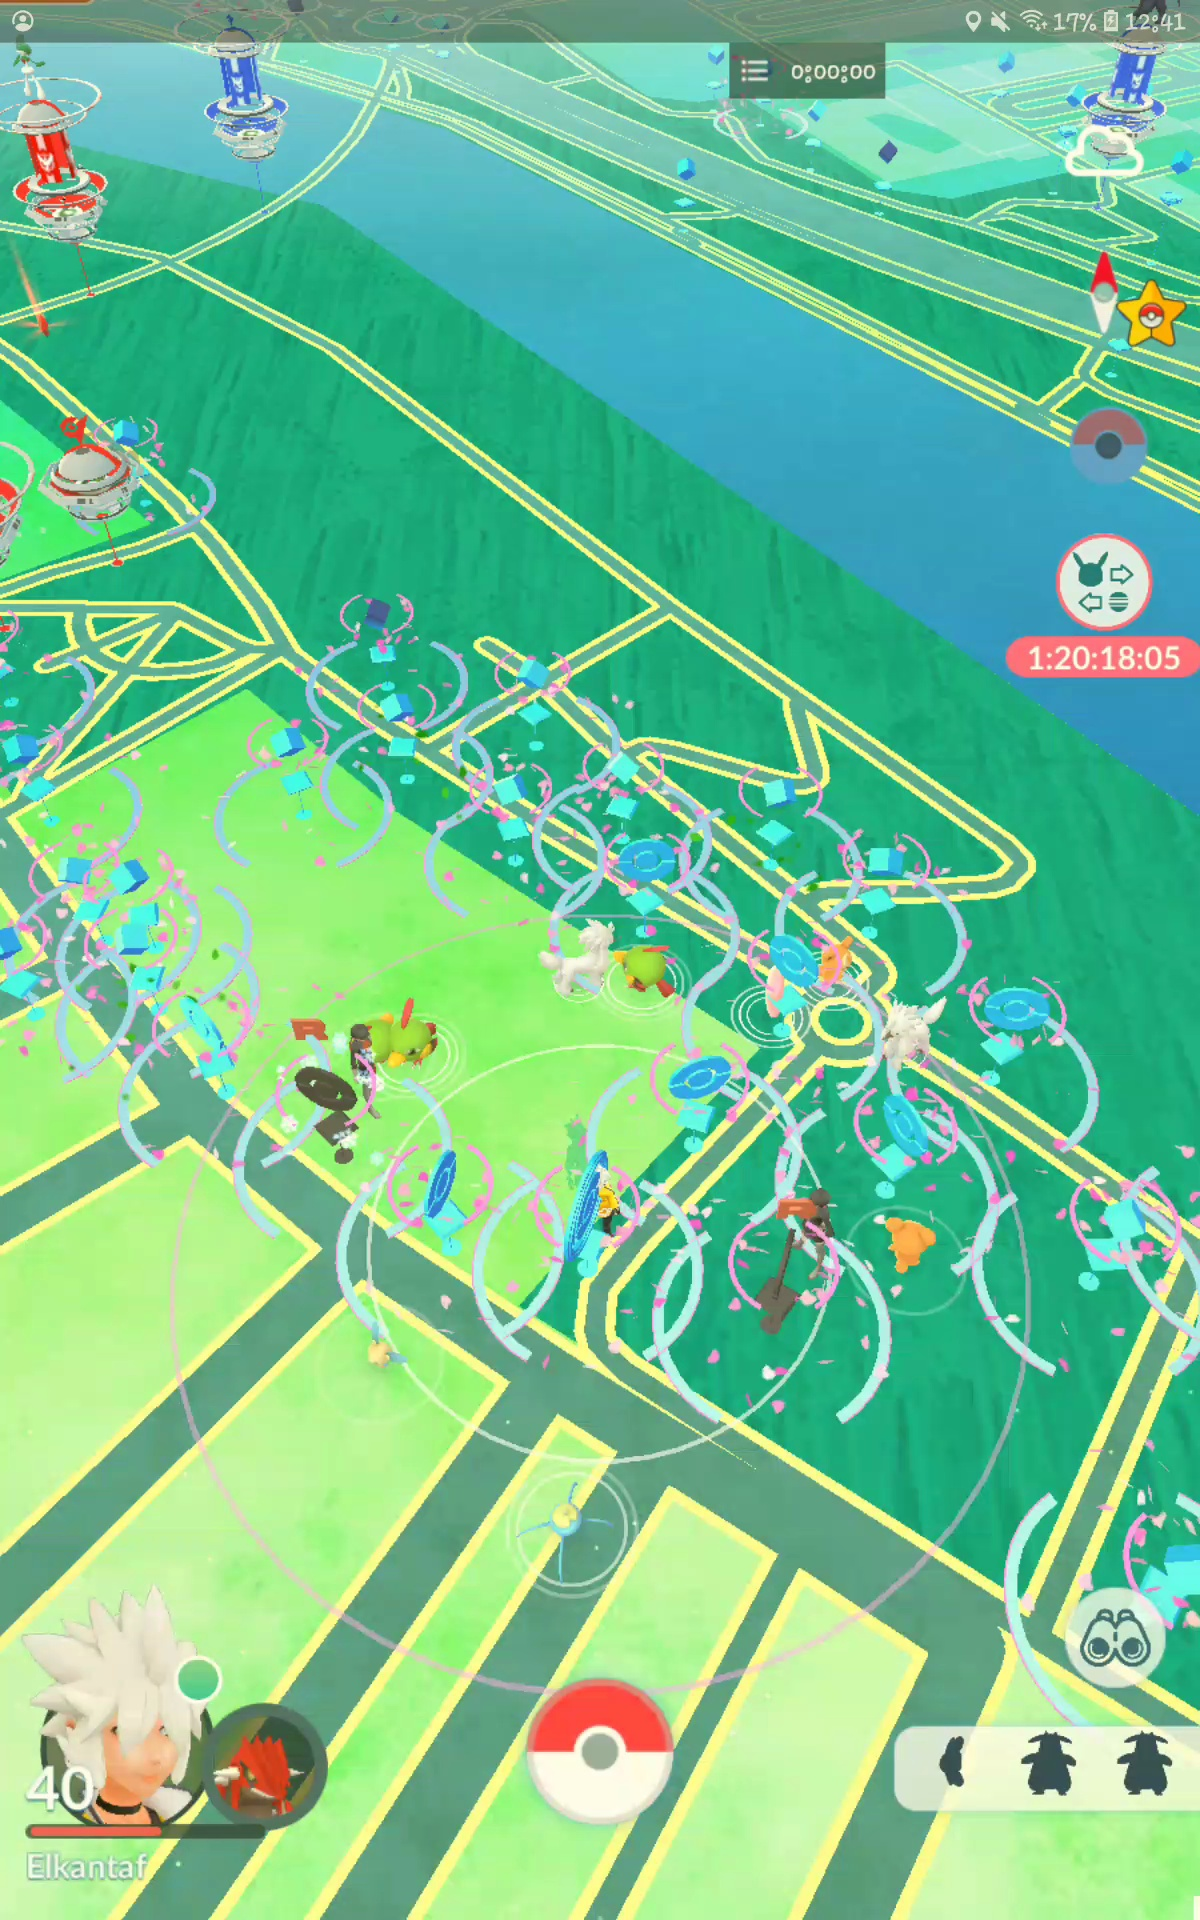Pokemon: (510, 1479, 618, 1587), (536, 915, 618, 1001), (879, 997, 951, 1071), (612, 943, 682, 1002), (390, 994, 442, 1069), (882, 1215, 939, 1276), (362, 1316, 411, 1375), (816, 934, 856, 995), (364, 1012, 393, 1067), (763, 966, 787, 1022)
